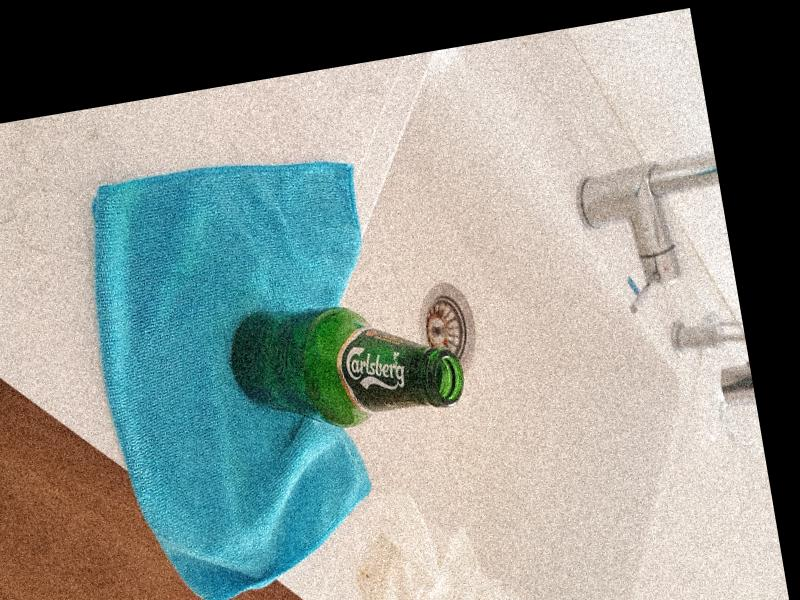Beer: (221, 284, 465, 446)
